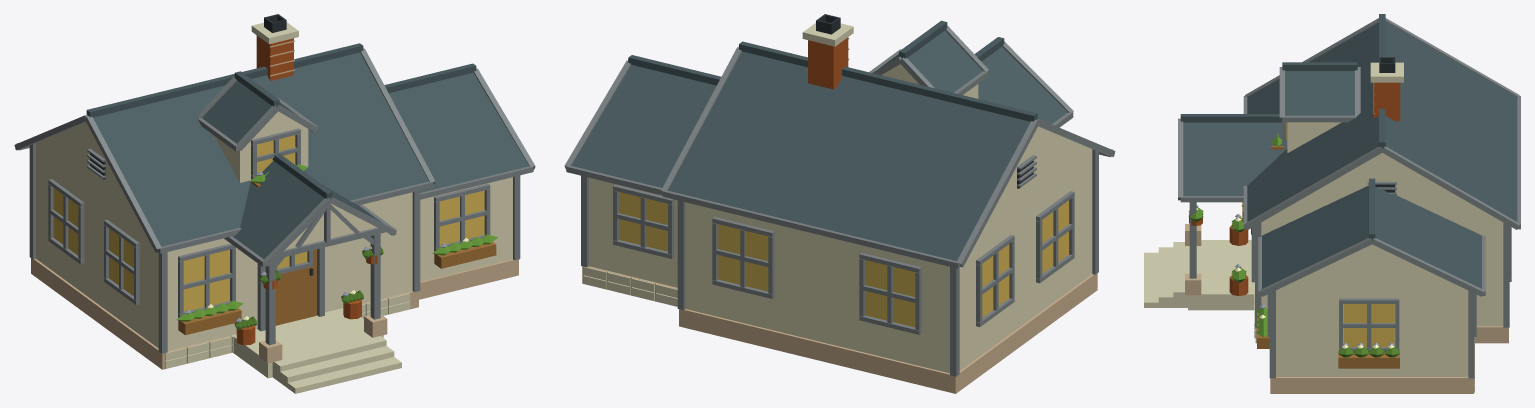
Rendered from House_A_Lv3_4_LOD1.fbx.
3 renders of one model, left to right at view 1: azimuth 30°, elevation 25°; view 2: azimuth 150°, elevation 25°; view 3: azimuth 270°, elevation 25°, orthographic. The views are drawn at different scales.
Parts seen in each view (by area): view 1: House_A_Lv3_4_Medium; view 2: House_A_Lv3_4_Medium; view 3: House_A_Lv3_4_Medium.
Part boxes in pixels (x1=…): House_A_Lv3_4_Medium: x1=14, y1=14, x2=535, y2=393; House_A_Lv3_4_Medium: x1=564, y1=14, x2=1115, y2=393; House_A_Lv3_4_Medium: x1=1144, y1=14, x2=1520, y2=393.
Size of the model in its own units: 14.75 by 9.34 by 12.89.
